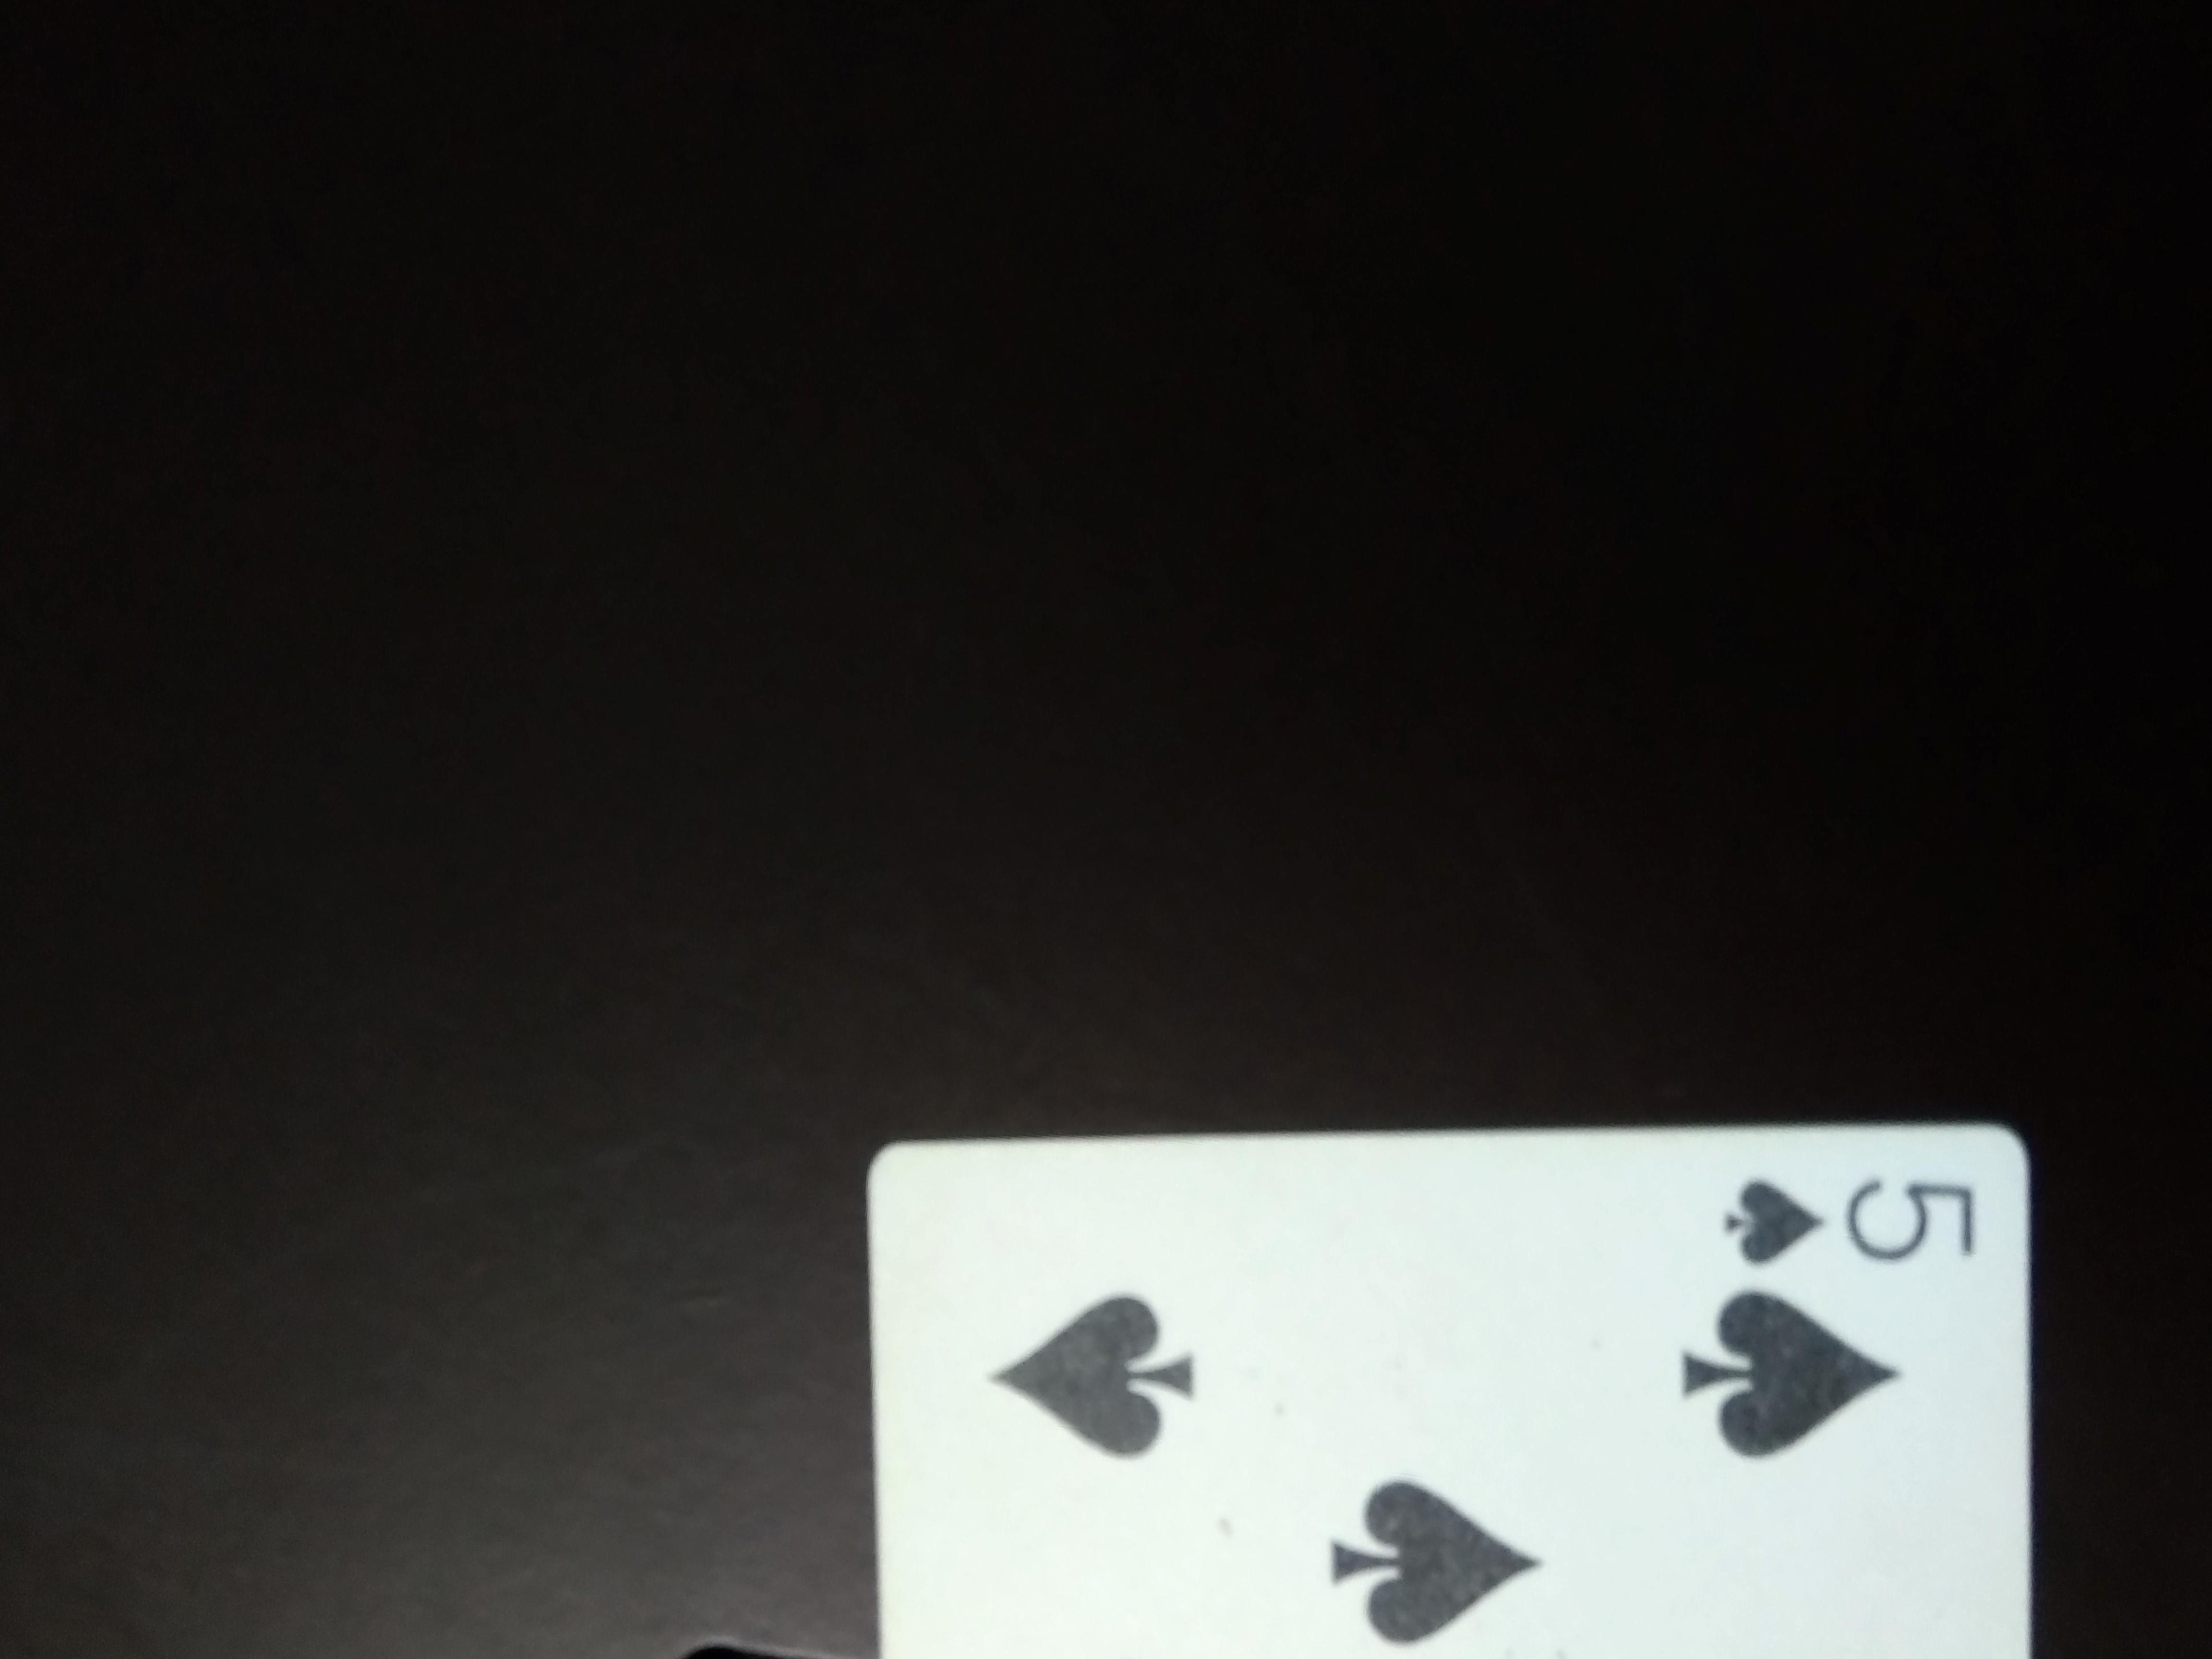5S: (1712, 1143, 2031, 1281)
